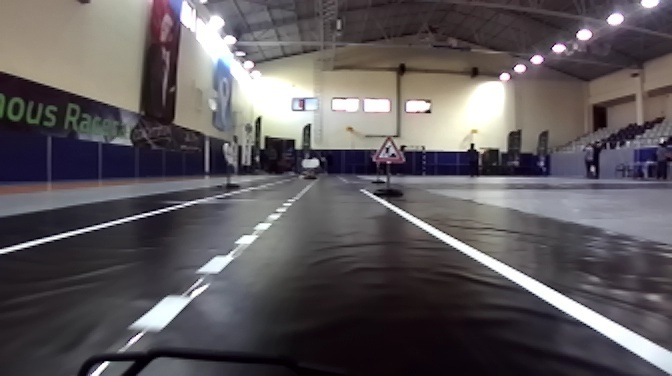yol_yapimi: (375, 134, 406, 166)
